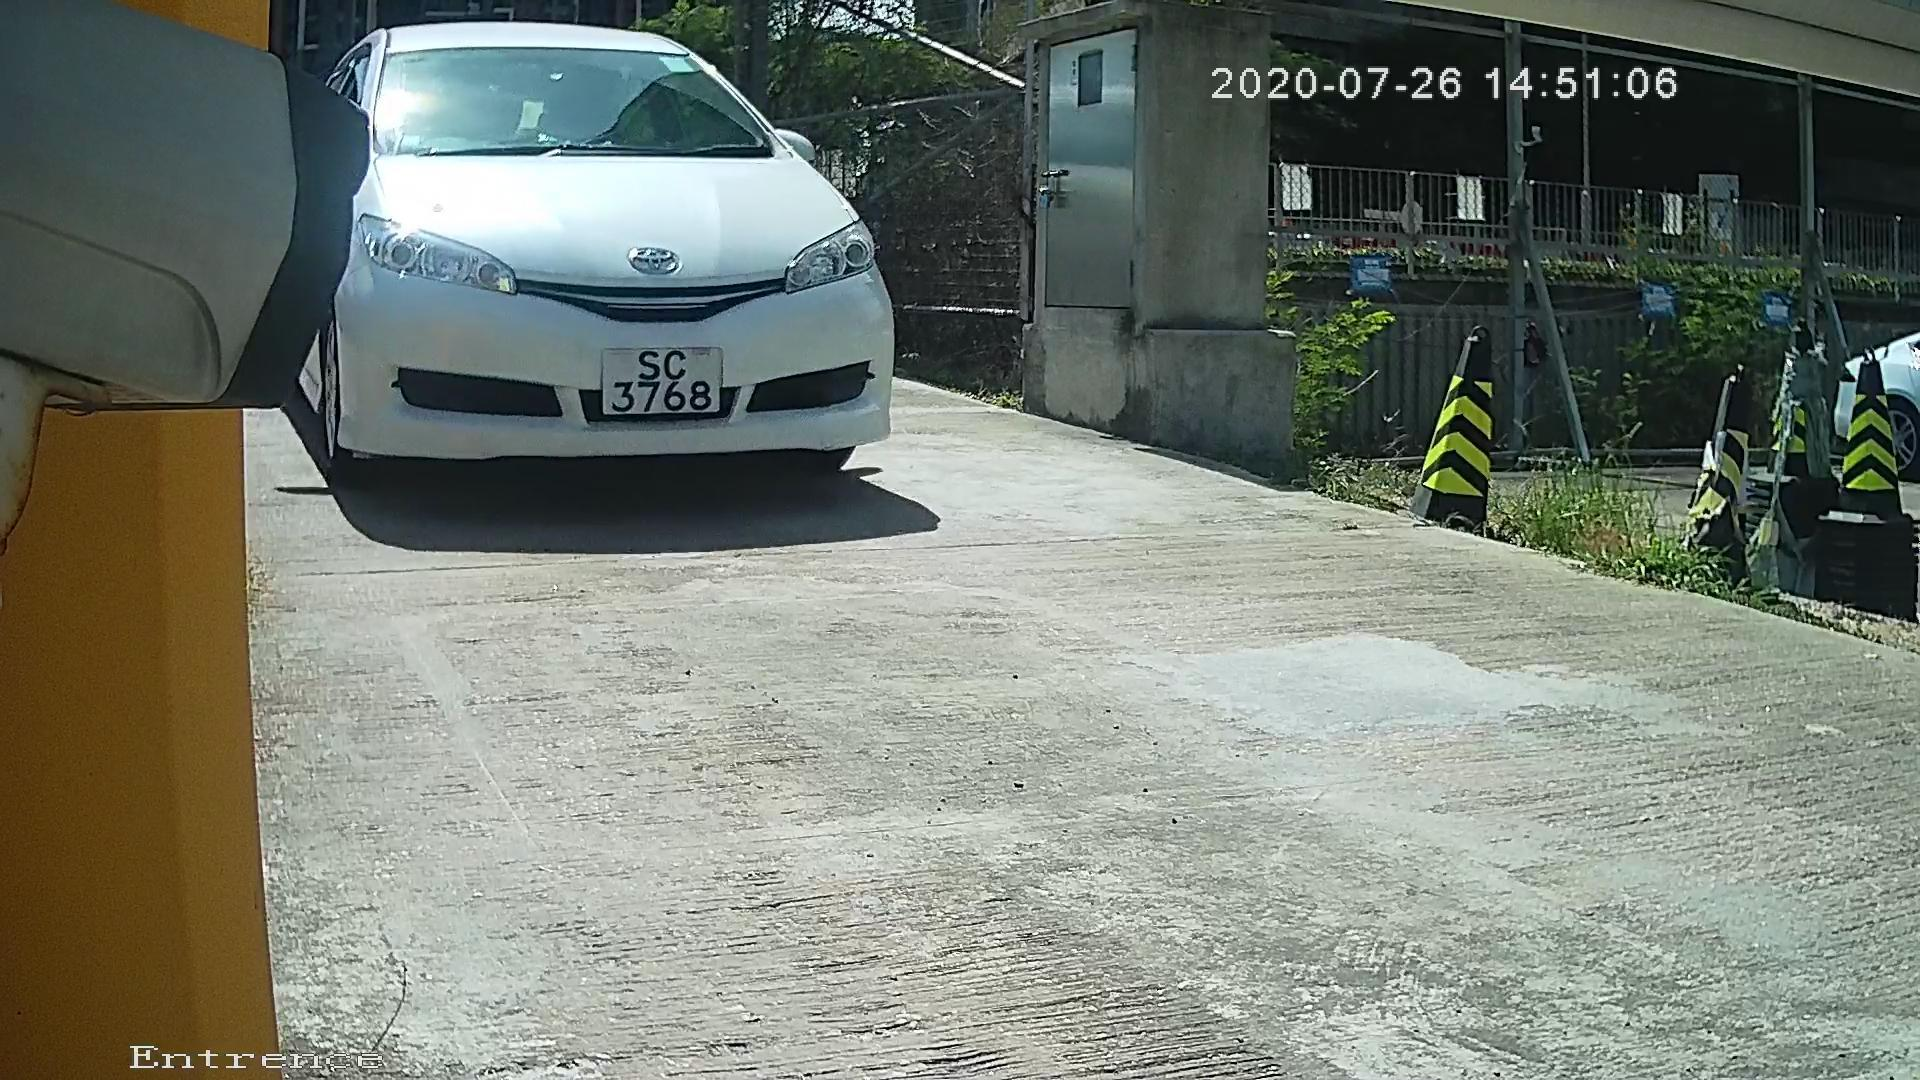privatecar: (249, 1, 935, 568)
